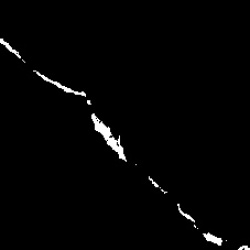crack: (1, 37, 228, 248)
